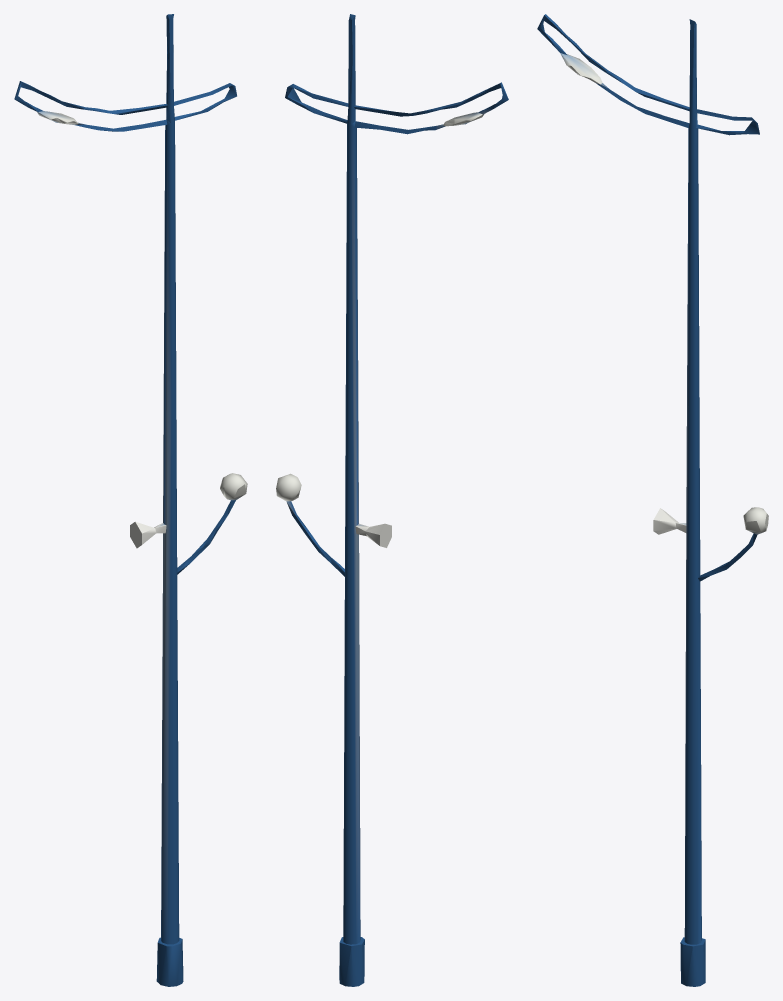
File: den_cot_xanh_hai_tay.far.glb
3 views of the same model, side by side, from view 1: azimuth 30°, elevation 25°; view 2: azimuth 150°, elevation 25°; view 3: azimuth 330°, elevation 25° (orthographic).
Parts seen in each view (by area): view 1: den_cong_vien; view 2: den_cong_vien; view 3: den_cong_vien.
Part boxes in pixels (box(x1,y1,x2,y2)): den_cong_vien: box(14, 14, 247, 986); den_cong_vien: box(276, 14, 508, 986); den_cong_vien: box(537, 14, 768, 986).
Size of the model in its own units: 2.98 by 11.93 by 0.3051.
